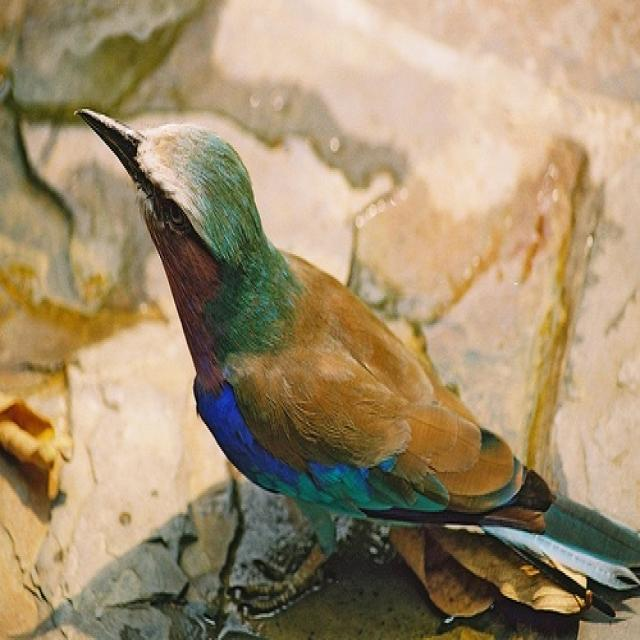bird: (65, 90, 639, 619)
